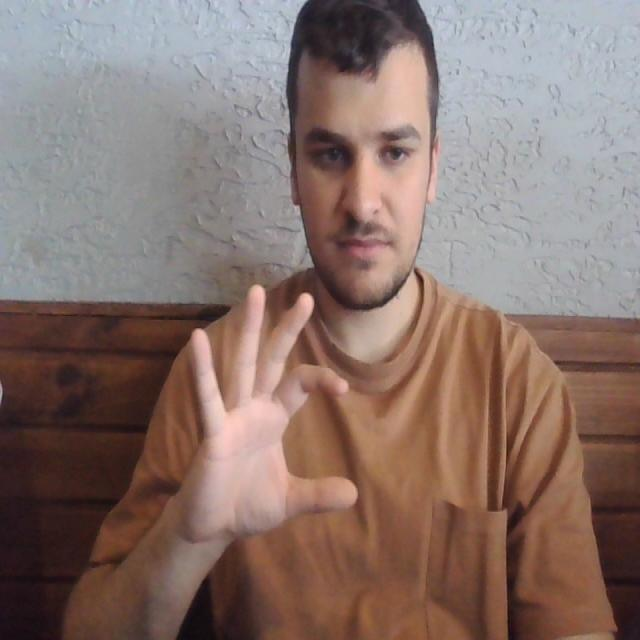Tuvalet: (140, 260, 367, 552)
